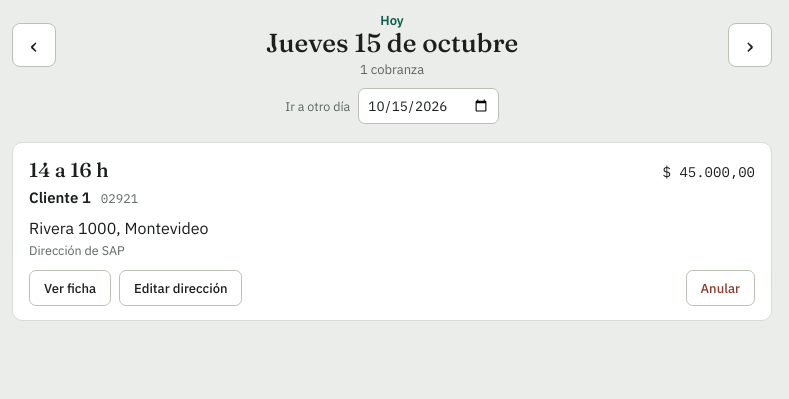
Test case: CobranzaPage › editar dirección › abre un campo con la dirección actual y el foco puesto
What coordinates should you click on to do the following:
click the button "Editar dirección"
I would click on:
 (181, 288)
Its box is [119, 270, 242, 306].
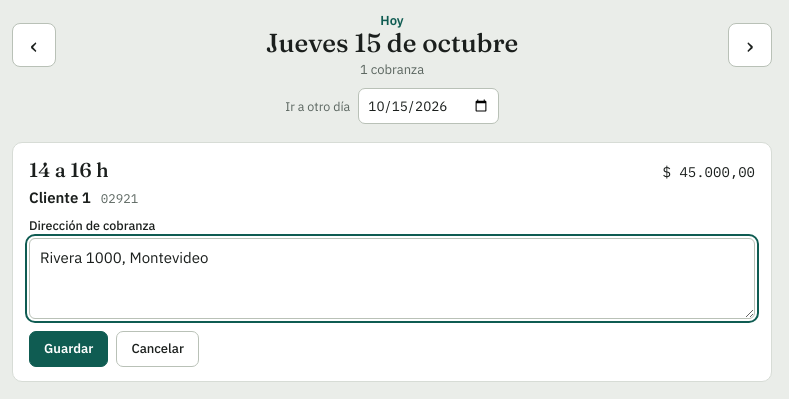
Result: the text box labelled "Dirección de cobranza" holds "Rivera 1000, Montevideo" at [29, 238, 755, 319]
